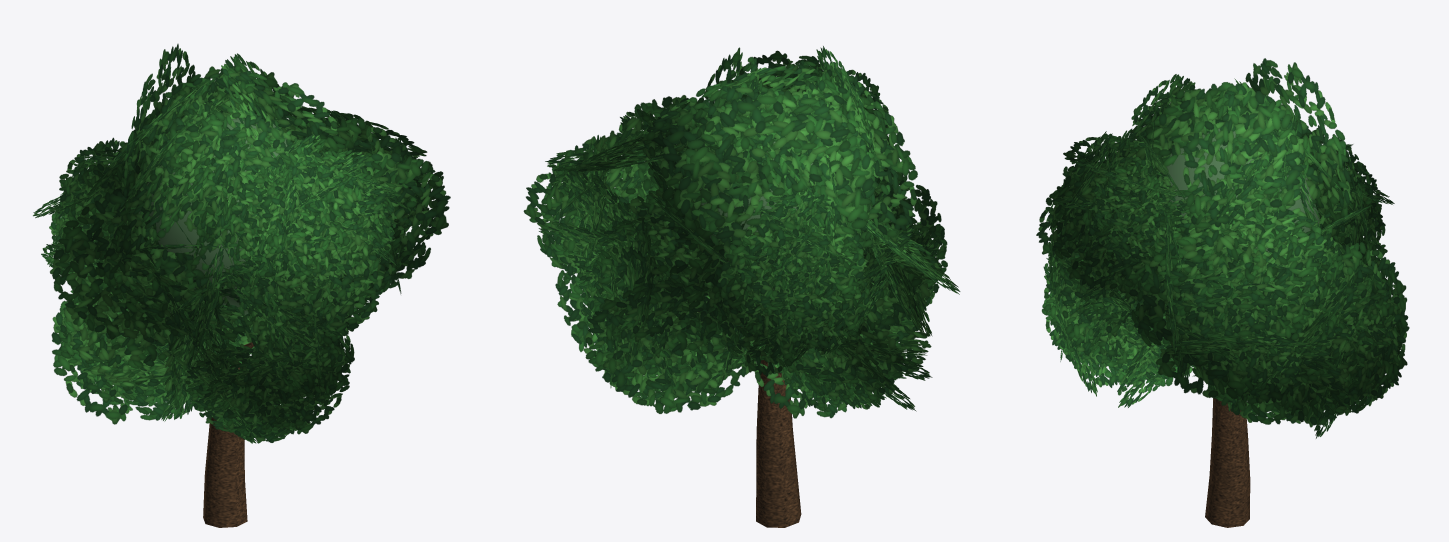
File: arvore_3.glb
3 views of the same model, side by side, from view 1: azimuth 30°, elevation 25°; view 2: azimuth 150°, elevation 25°; view 3: azimuth 270°, elevation 25° (orthographic). The views are drawn at different scales.
Parts seen in each view (by area): view 1: folhas, casca, miolo; view 2: folhas, casca; view 3: folhas, casca, miolo.
Boxes of the visible parts, x1,y1,x2,y2 form: folhas: [33, 44, 450, 443]; casca: [203, 342, 254, 527]; miolo: [139, 117, 294, 316]; folhas: [523, 46, 960, 418]; casca: [698, 312, 801, 527]; folhas: [1036, 58, 1409, 438]; casca: [1205, 398, 1250, 527]; miolo: [1166, 128, 1319, 270].
Size of the model in its own units: 17.25 by 18.82 by 14.97.
3 materials, 2 textured.
